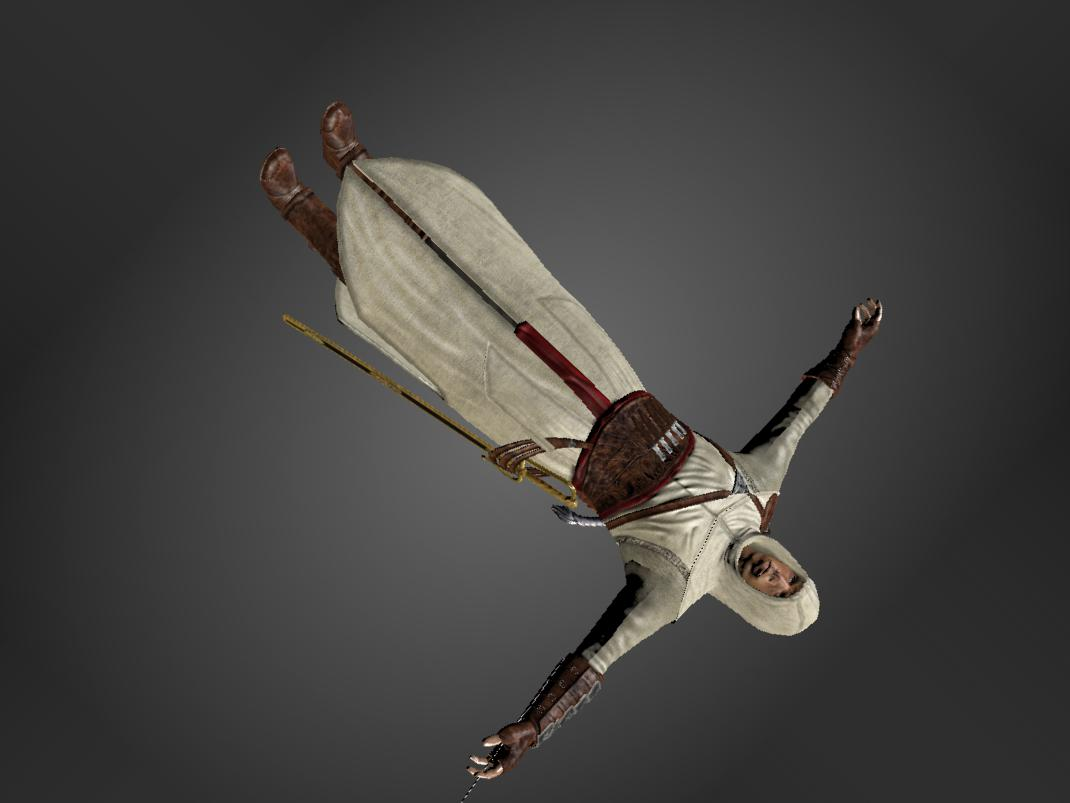clip: (522, 420, 563, 462)
